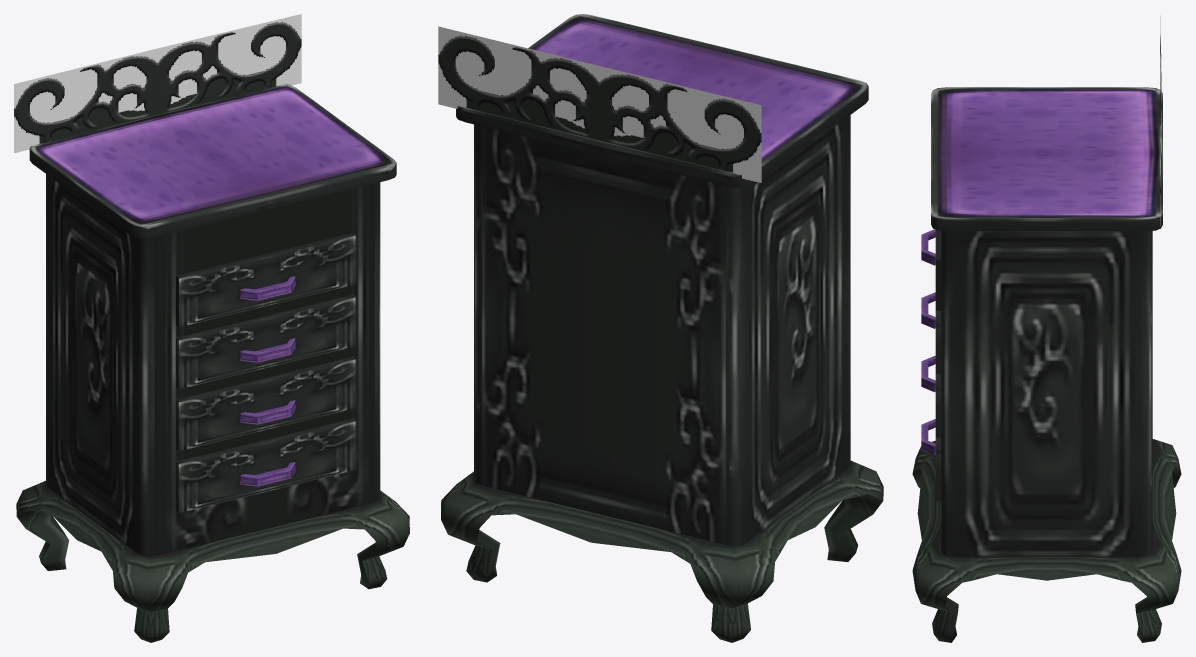
The model's file is BaroqueCabinet_HD.fbx.
3 renders of one model, left to right at view 1: azimuth 30°, elevation 25°; view 2: azimuth 150°, elevation 25°; view 3: azimuth 270°, elevation 25°, orthographic. The views are drawn at different scales.
Parts seen in each view (by area): view 1: BaroqueCabinet; view 2: BaroqueCabinet; view 3: BaroqueCabinet.
Boxes of the visible parts, x1,y1,x2,y2 form: BaroqueCabinet: (14, 14, 409, 642); BaroqueCabinet: (438, 14, 883, 642); BaroqueCabinet: (912, 15, 1181, 642).
Size of the model in its own units: 0.724 by 1.14 by 0.5582.
